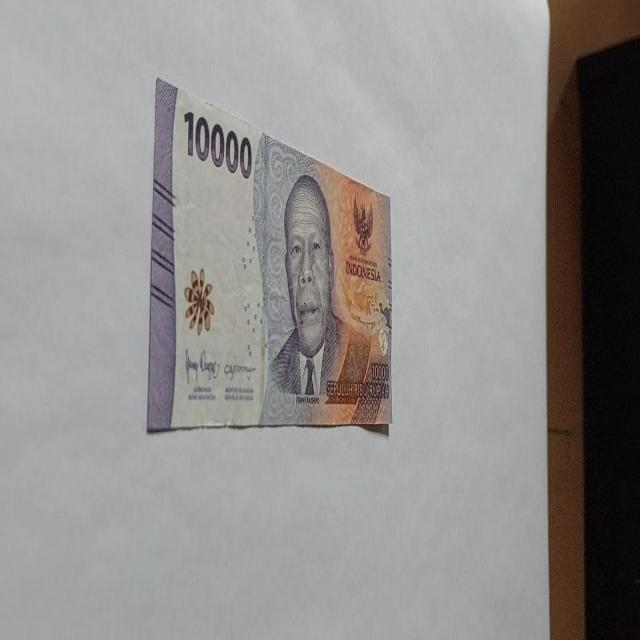Kertas: (146, 76, 394, 433), (183, 109, 253, 180)
